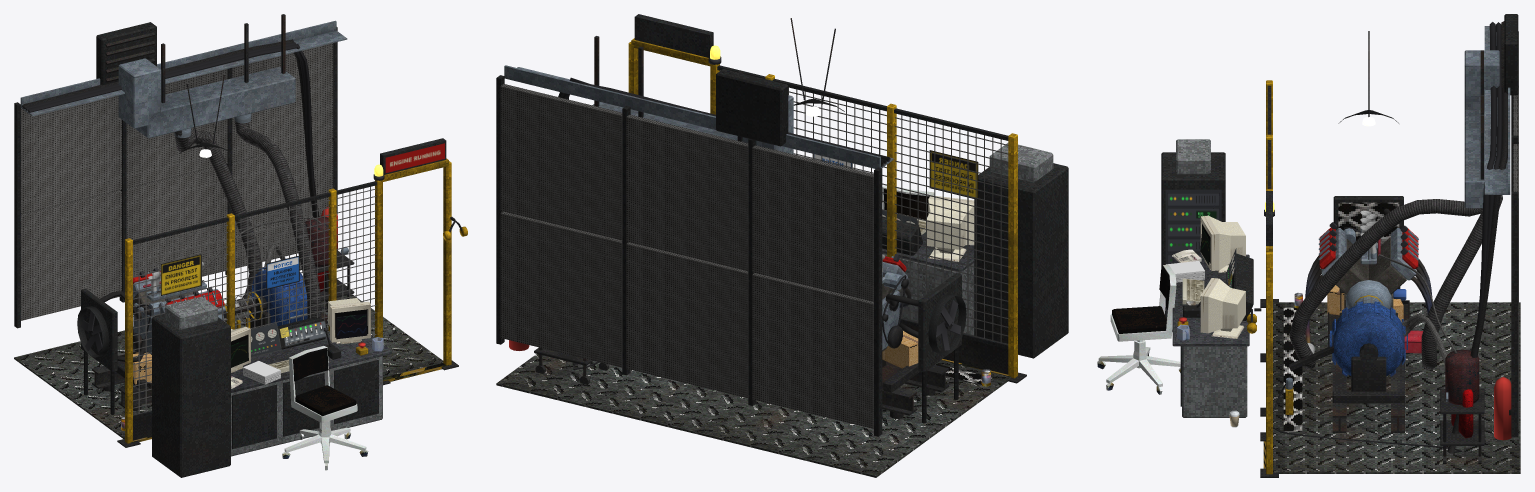
Rendered from station_dyno.glb.
3 views of the same model, side by side, from view 1: azimuth 30°, elevation 25°; view 2: azimuth 150°, elevation 25°; view 3: azimuth 270°, elevation 25° (orthographic). The views are drawn at different scales.
Parts seen in each view (by area): view 1: Dyno_Rack, Dyno_Acoustic_00, Dyno_Acoustic_01, Dyno_Acoustic_10, Dyno_FloorPlate, Dyno_Acoustic_20, Dyno_Acoustic_21, Dyno_Duct, Dyno_Acoustic_11, DynoChair, Dyno_Mesh_-0.07, Dyno_Mesh_-1.17 (+42 smaller); view 2: Dyno_FloorPlate, Dyno_Acoustic_11, Dyno_Acoustic_21, Dyno_Acoustic_20, Dyno_Acoustic_10, Dyno_Acoustic_01, Dyno_Acoustic_00, Dyno_Rack, Dyno_Mesh_-1.17, Dyno_FanBox, Dyno_TrayBack, DynoCRT0 (+26 smaller); view 3: Dyno_FloorPlate, Dyno_ConsoleBase, DynoChair, BUSY_dyno_Engine_Flex_-1, Dyno_Absorber, Dyno_RackFront, BUSY_dyno_Engine_Flex_+1, DynoCRT1, Dyno_Rack, Dyno_PanelRail_+1.71, Dyno_ConsoleTop, Dyno_Duct (+29 smaller).
Boxes of the visible parts, bbox=[...] form: Dyno_Rack: bbox=[152, 314, 230, 477]; Dyno_Acoustic_00: bbox=[21, 190, 121, 320]; Dyno_Acoustic_01: bbox=[21, 95, 121, 214]; Dyno_Acoustic_10: bbox=[126, 167, 227, 276]; Dyno_FloorPlate: bbox=[14, 294, 443, 438]; Dyno_Acoustic_20: bbox=[232, 139, 333, 268]; Dyno_Acoustic_21: bbox=[232, 43, 333, 162]; Dyno_Duct: bbox=[135, 66, 295, 138]; Dyno_Acoustic_11: bbox=[126, 69, 227, 188]; DynoChair: bbox=[282, 346, 368, 470]; Dyno_Mesh_-0.07: bbox=[235, 198, 329, 331]; Dyno_Mesh_-1.17: bbox=[133, 223, 227, 415]; Dyno_FloorPlate: bbox=[496, 354, 1010, 477]; Dyno_Acoustic_11: bbox=[626, 114, 748, 271]; Dyno_Acoustic_21: bbox=[500, 84, 622, 240]; Dyno_Acoustic_20: bbox=[500, 211, 622, 367]; Dyno_Acoustic_10: bbox=[626, 242, 748, 398]; Dyno_Acoustic_01: bbox=[752, 145, 873, 301]; Dyno_Acoustic_00: bbox=[752, 273, 873, 428]; Dyno_Rack: bbox=[974, 163, 1068, 358]; Dyno_Mesh_-1.17: bbox=[895, 115, 1008, 344]; Dyno_FanBox: bbox=[716, 69, 788, 146]; Dyno_TrayBack: bbox=[504, 65, 880, 167]; DynoCRT0: bbox=[927, 195, 974, 261]; Dyno_FloorPlate: bbox=[1273, 302, 1520, 473]; Dyno_ConsoleBase: bbox=[1182, 346, 1247, 417]; DynoChair: bbox=[1097, 265, 1180, 394]; BUSY_dyno_Engine_Flex_-1: bbox=[1289, 199, 1482, 369]; Dyno_Absorber: bbox=[1333, 303, 1404, 376]; Dyno_RackFront: bbox=[1165, 189, 1221, 316]; BUSY_dyno_Engine_Flex_+1: bbox=[1421, 195, 1502, 369]; DynoCRT1: bbox=[1200, 278, 1245, 338]; Dyno_Rack: bbox=[1161, 152, 1225, 331]; Dyno_PanelRail_+1.71: bbox=[1511, 192, 1518, 437]; Dyno_ConsoleTop: bbox=[1172, 254, 1249, 346]; Dyno_Duct: bbox=[1464, 109, 1499, 208].
Bounding box in the file's own units: 3.63 × 3.15 × 3.62.
56 materials, 47 textured.
